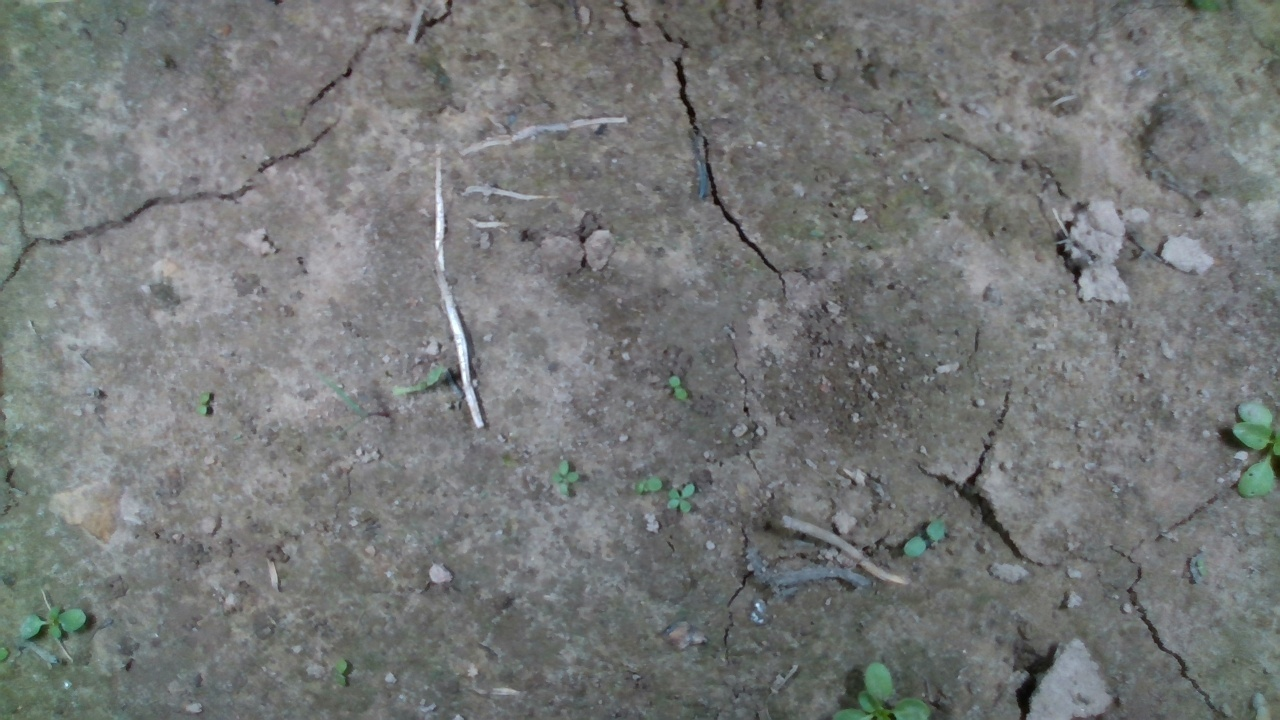weed: (17, 602, 88, 640), (902, 516, 947, 559), (546, 457, 580, 497), (665, 481, 696, 513), (667, 374, 688, 402), (632, 476, 664, 493), (334, 656, 348, 688), (196, 389, 210, 416)
